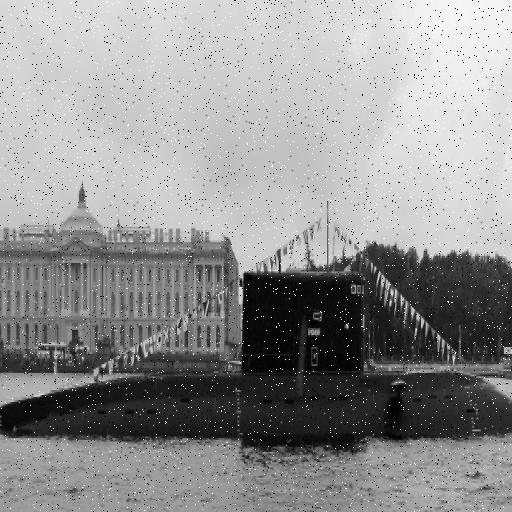submarine: (1, 259, 512, 424)
